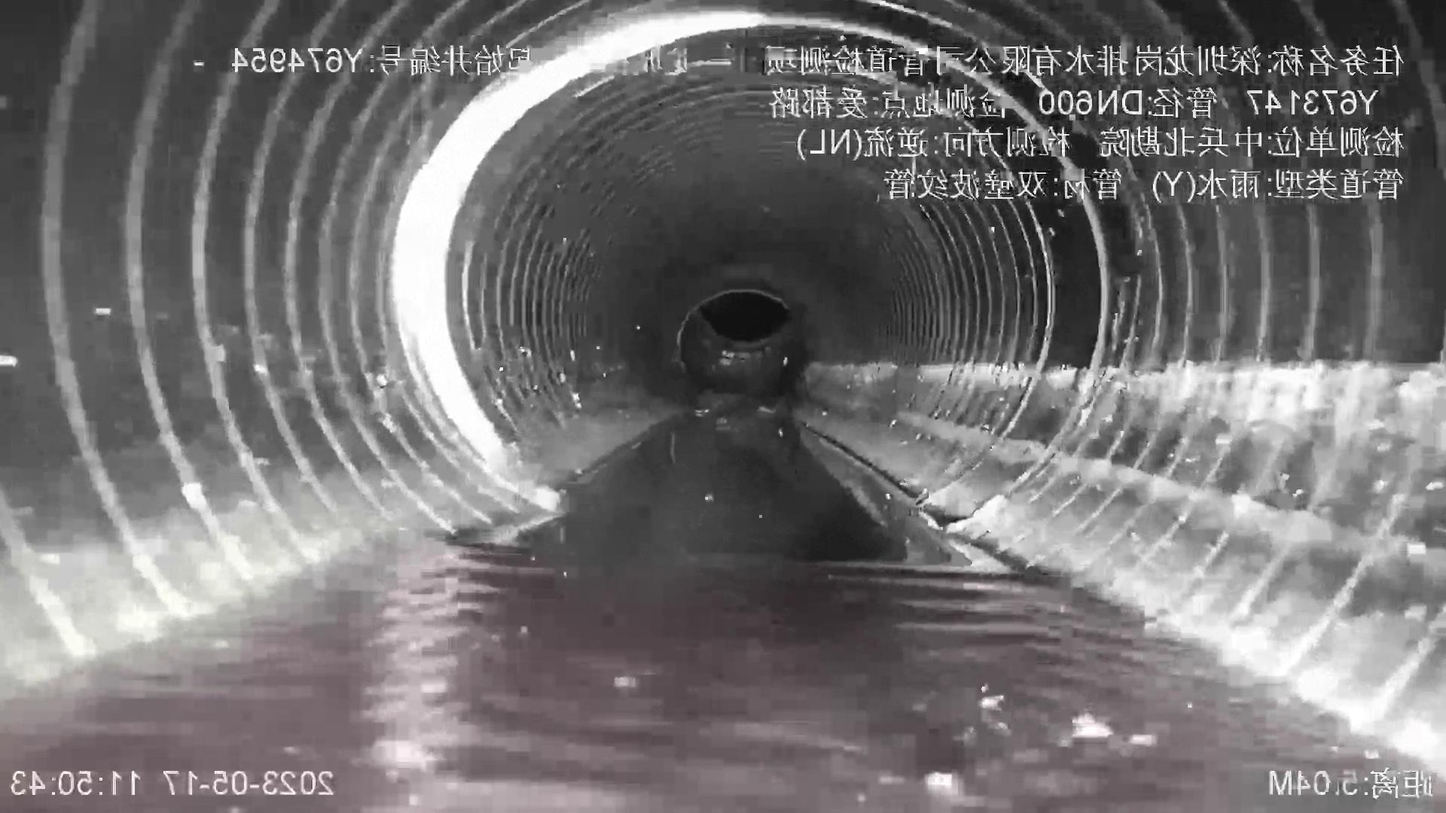CKTJ: (391, 9, 910, 510)
